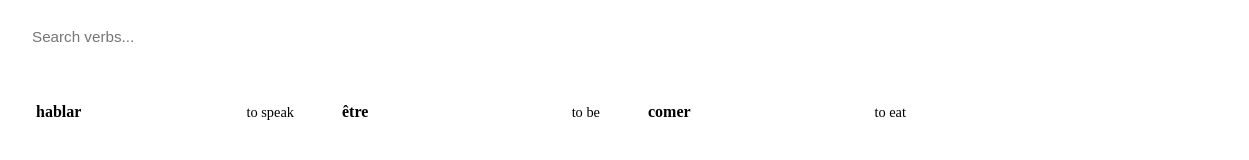
Test: matches accented verbs from a plain, unaccented query
Type "etre" into the search field with placeholder "Search verbs..." at (624, 36), box top-left (16, 16), bottom-right (1232, 57)
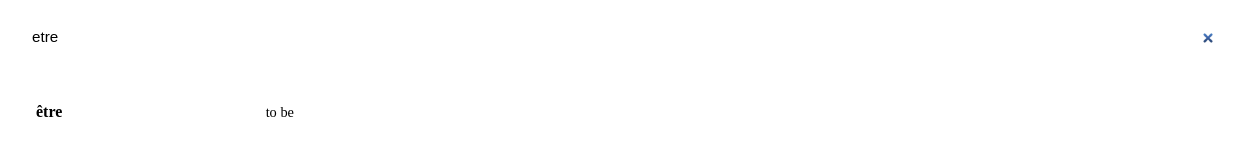
Check: the text "être" is shown, box top-left (36, 103), bottom-right (62, 121)
Check: the link "hablar" is gone
